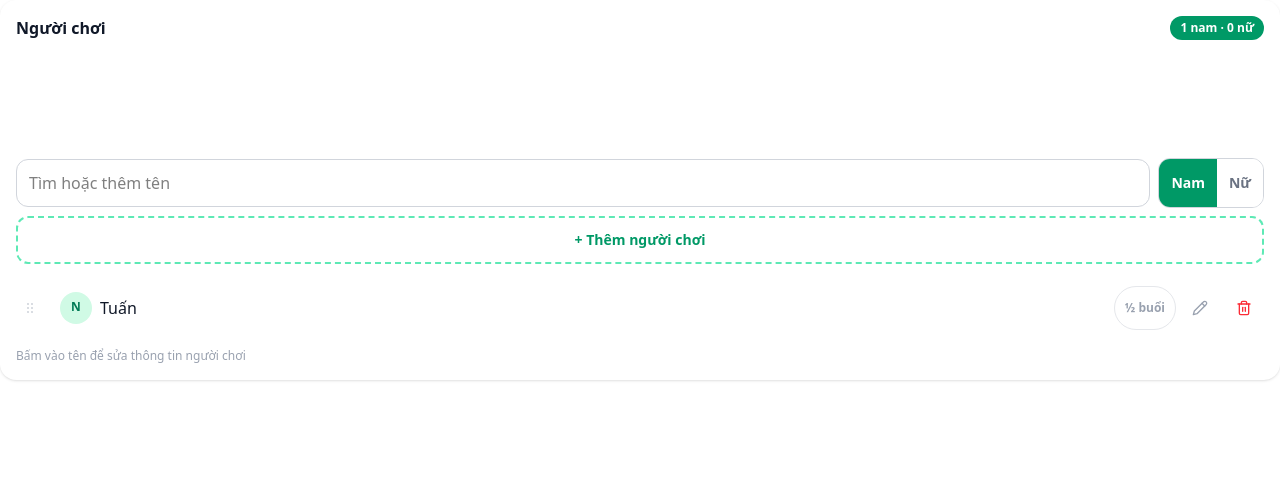
Scenario: adds a player and blocks duplicates
Type "Lan" into the field with placeholder "Tìm hoặc thêm tên" at {"x": 583, "y": 183}, box [16, 159, 1150, 207]
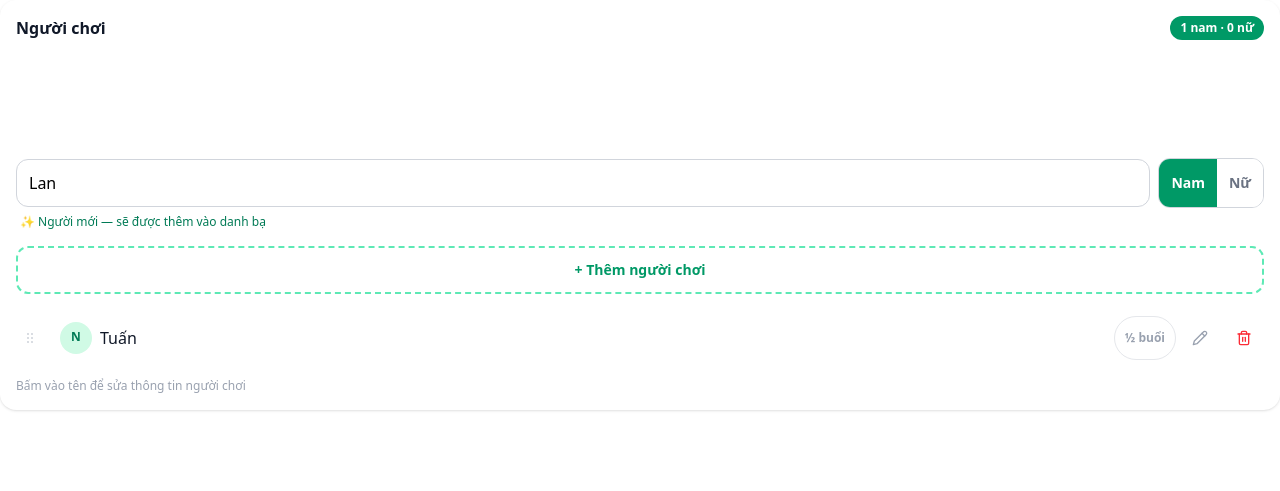
Click the button "+ Thêm người chơi" at {"x": 640, "y": 270}, box [16, 246, 1264, 294]
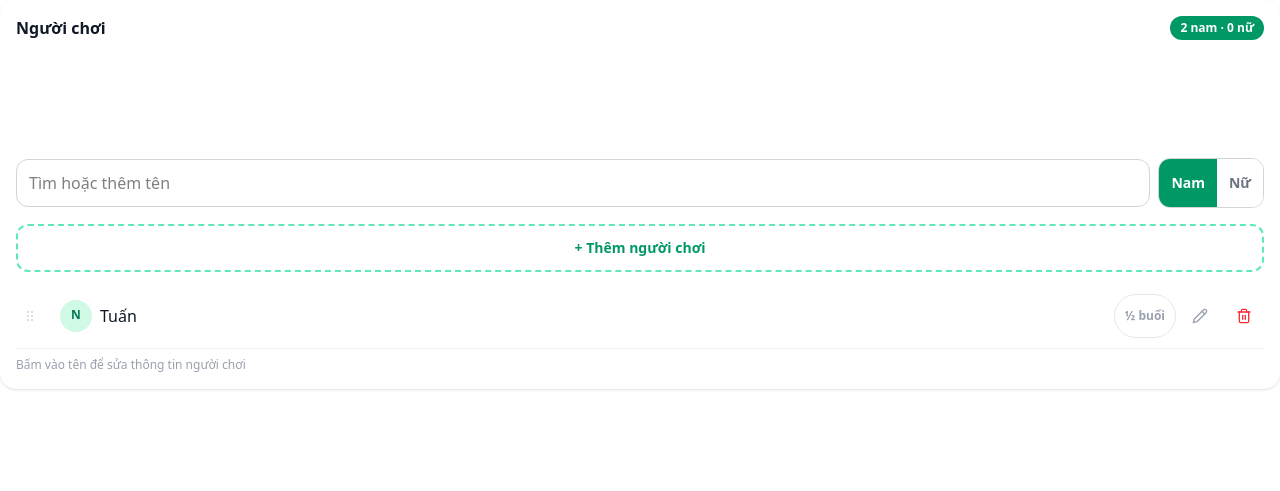
Type "tuấn" into the field with placeholder "Tìm hoặc thêm tên" at {"x": 583, "y": 183}, box [16, 159, 1150, 207]
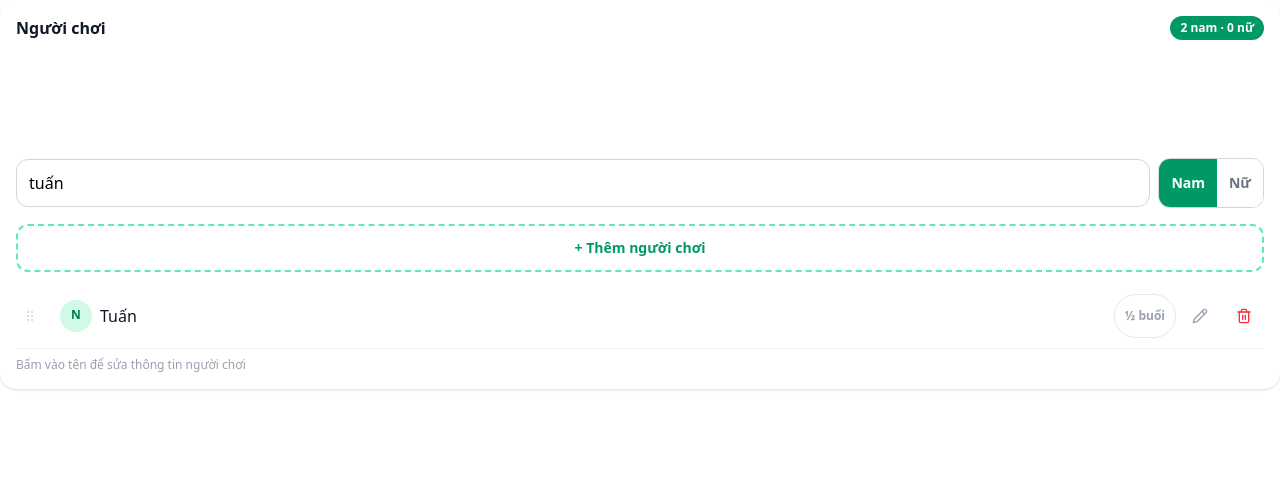
Click the button "+ Thêm người chơi" at {"x": 640, "y": 248}, box [16, 224, 1264, 272]
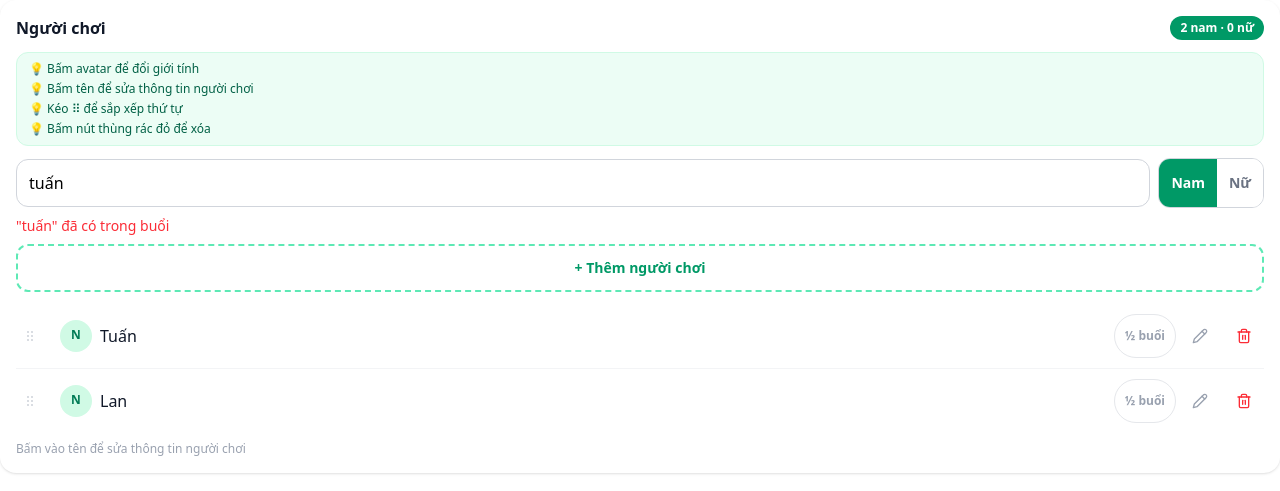
Result: the text "\"tuấn\" đã có trong buổi" is shown at [16, 216, 169, 235]
